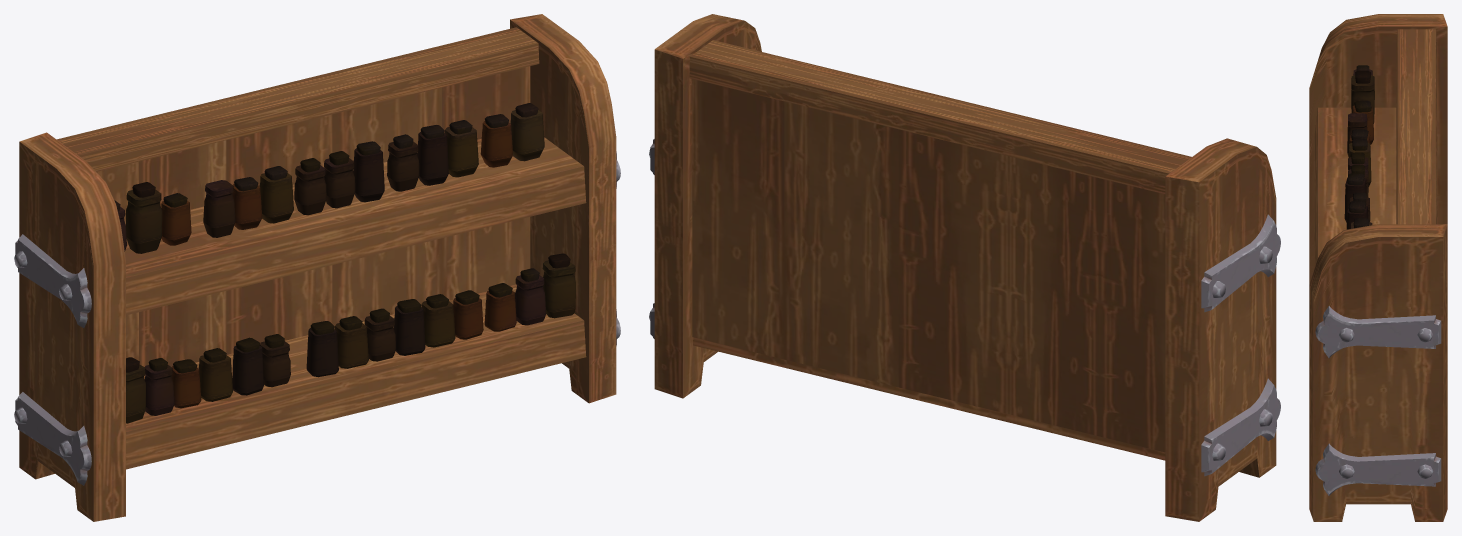
Rendered from Shelf_Small_Bottles.glb.
3 renders of one model, left to right at view 1: azimuth 30°, elevation 25°; view 2: azimuth 150°, elevation 25°; view 3: azimuth 270°, elevation 25°, orthographic. The views are drawn at different scales.
Parts seen in each view (by area): view 1: Shelf_Small_Bottles; view 2: Shelf_Small_Bottles; view 3: Shelf_Small_Bottles.
Boxes of the visible parts, left/top/right/bottom form: Shelf_Small_Bottles: left=14, top=14, right=620, bottom=521; Shelf_Small_Bottles: left=649, top=14, right=1280, bottom=521; Shelf_Small_Bottles: left=1309, top=14, right=1447, bottom=521.
Bounding box in the file's own units: 1.14 × 0.6474 × 0.2846.
Materials: 3 (3 with a texture image).
